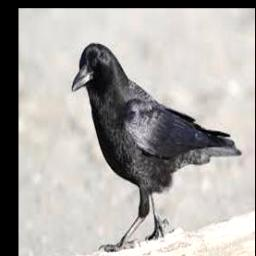Crow: (72, 43, 243, 252)
